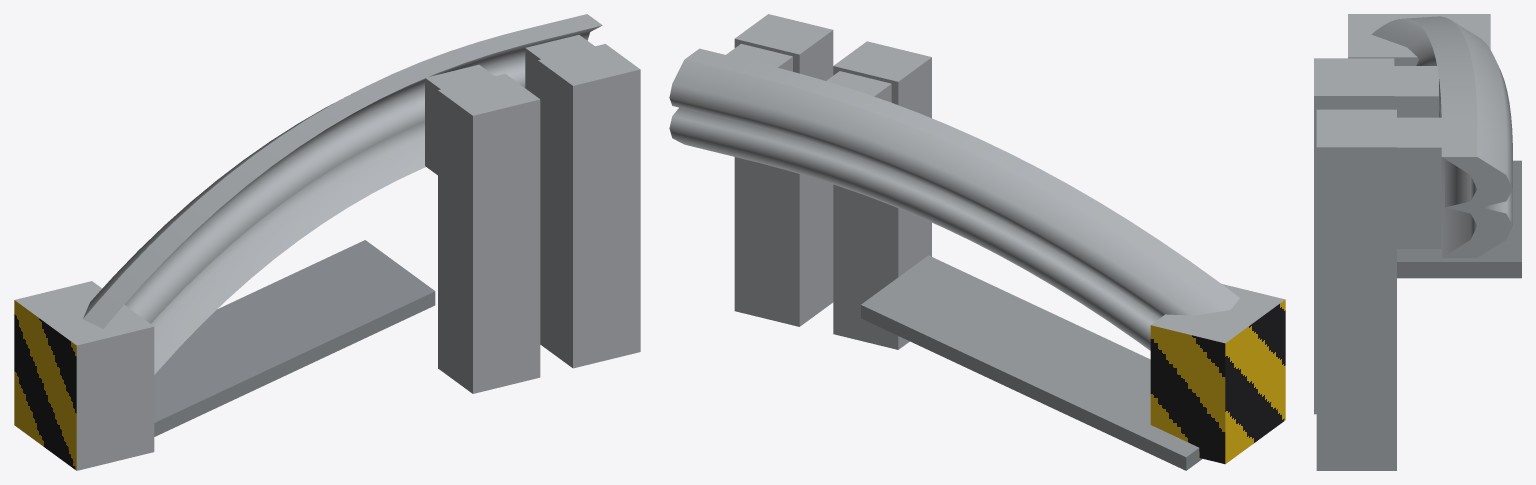
The model's file is guardrail_end_terminal_mirrored.obj.
3 renders of one model, left to right at view 1: azimuth 30°, elevation 25°; view 2: azimuth 150°, elevation 25°; view 3: azimuth 270°, elevation 25°, orthographic. The views are drawn at different scales.
Visible parts, largest first — view 1: guardrail_end_terminal_mirrored; view 2: guardrail_end_terminal_mirrored; view 3: guardrail_end_terminal_mirrored.
Boxes of the visible parts, left/top/right/bottom form: guardrail_end_terminal_mirrored: left=14, top=14, right=640, bottom=470; guardrail_end_terminal_mirrored: left=669, top=14, right=1285, bottom=470; guardrail_end_terminal_mirrored: left=1314, top=14, right=1521, bottom=470.
Size of the model in its own units: 2.1 by 1 by 0.5823.
